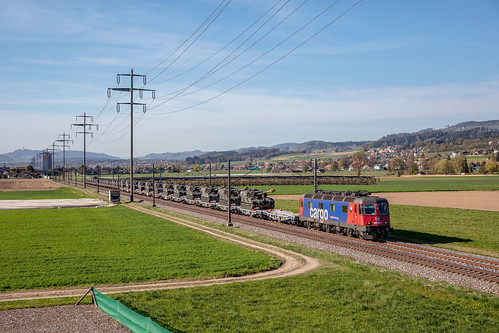grass: (1, 200, 262, 281)
sky: (11, 1, 499, 134)
tank: (237, 187, 278, 211), (216, 183, 244, 205), (198, 182, 224, 203), (183, 183, 203, 197)
train track: (383, 238, 499, 298)
tree: (288, 189, 396, 245)
